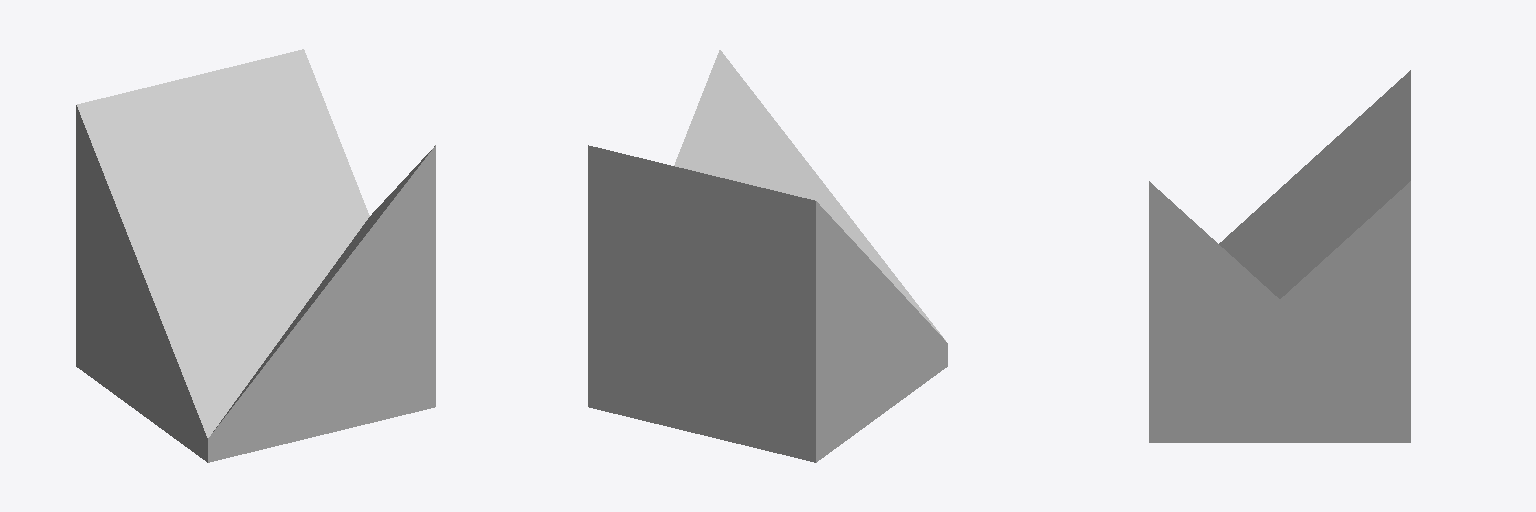
3 views of the same model, side by side, from view 1: azimuth 30°, elevation 25°; view 2: azimuth 150°, elevation 25°; view 3: azimuth 270°, elevation 25° (orthographic).
Parts seen in each view (by area): view 1: cube1; view 2: cube1; view 3: cube1.
Boxes of the visible parts, x1,y1,x2,y2 form: cube1: [76, 49, 435, 462]; cube1: [588, 50, 947, 462]; cube1: [1149, 70, 1410, 442].
Bounding box in the file's own units: 1 × 1.1 × 1.